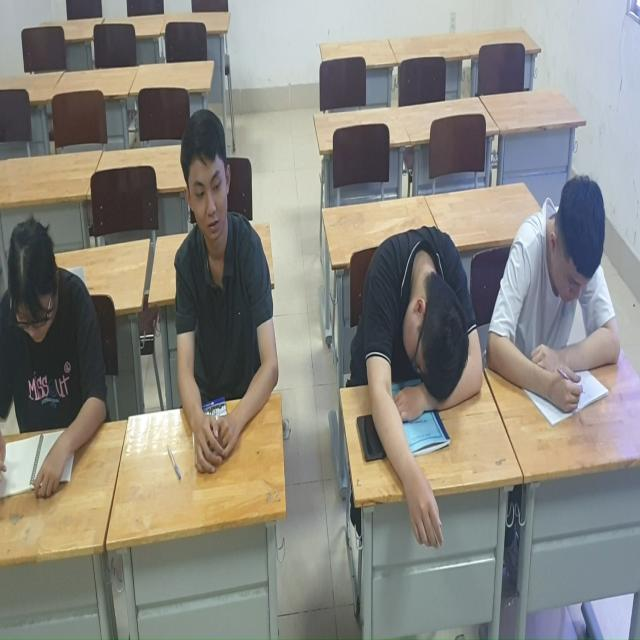read: (1, 187, 128, 485), (484, 165, 623, 429), (177, 110, 277, 475)
sleep: (360, 211, 487, 577)
